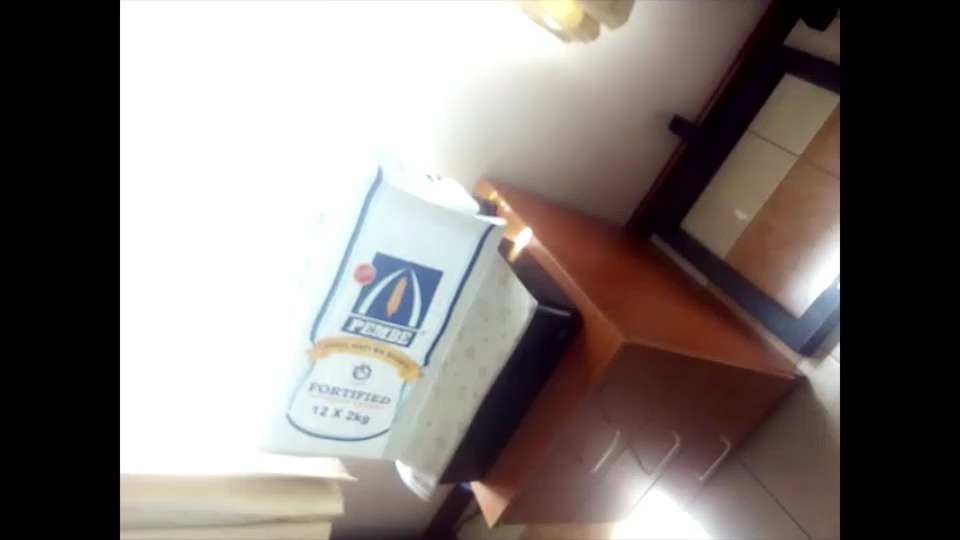wheat_flour_blue_label: (248, 151, 509, 458)
